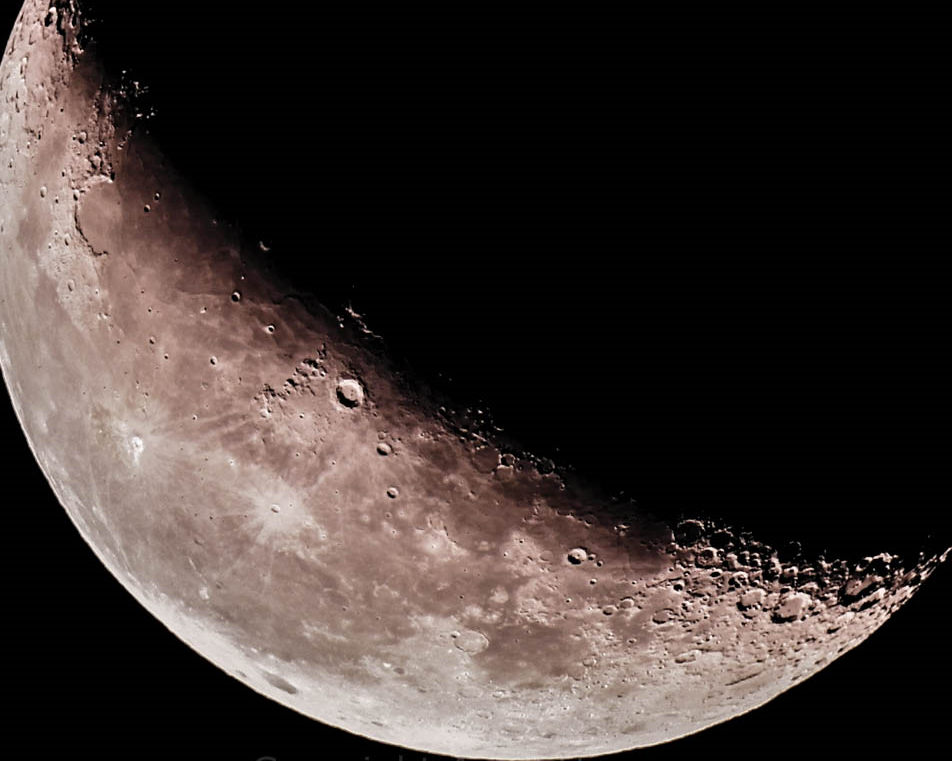crater: (216, 466, 356, 593), (77, 383, 203, 517), (51, 162, 133, 265), (319, 369, 379, 434), (439, 619, 509, 666), (549, 538, 603, 581), (209, 280, 270, 313), (524, 446, 570, 488), (371, 472, 418, 510), (119, 275, 165, 304), (366, 431, 399, 463), (447, 681, 490, 705), (155, 345, 190, 372), (618, 630, 648, 650), (146, 180, 167, 206)
